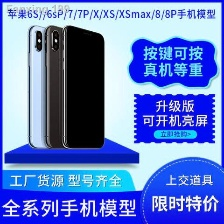phone: (58, 21, 107, 150), (42, 24, 81, 150), (26, 22, 61, 150)
